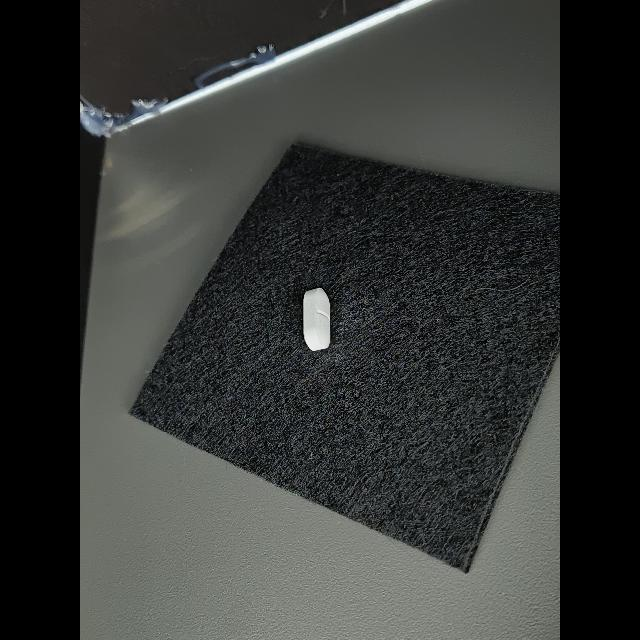Intact Pill: (303, 288, 330, 351)
